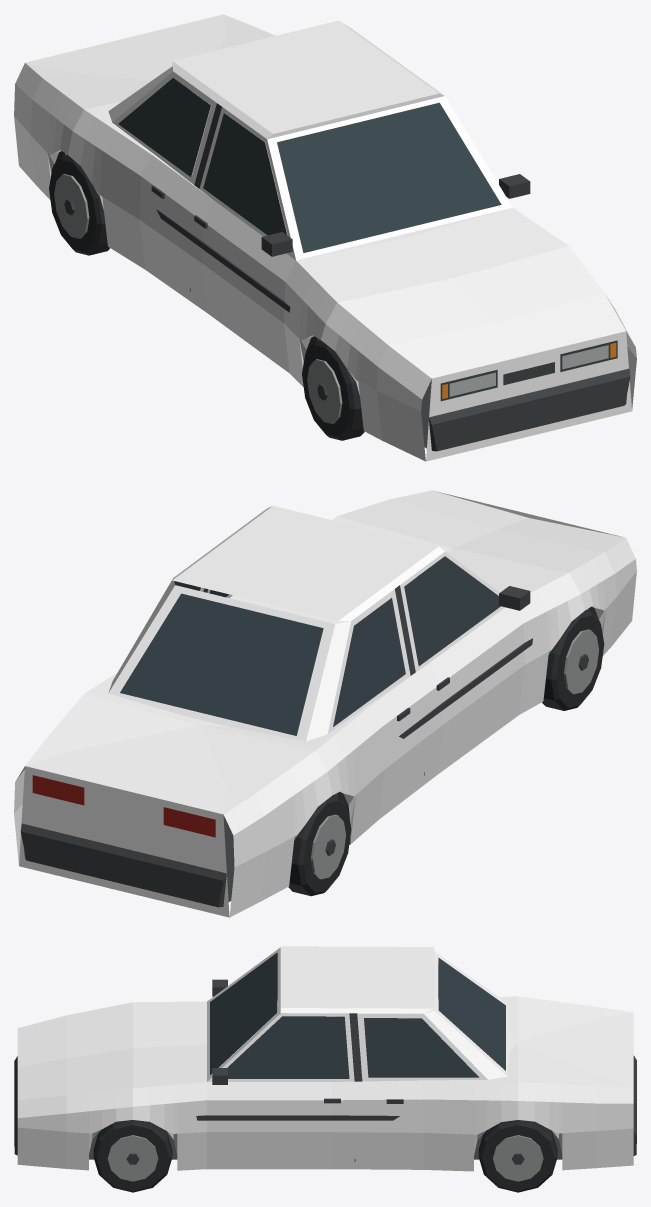
Rendered from hoshino_tenma_gt_99.glb.
3 views of the same model, one above another, from view 1: azimuth 30°, elevation 25°; view 2: azimuth 150°, elevation 25°; view 3: azimuth 270°, elevation 25° (orthographic). The views are drawn at different scales.
Visible parts, largest first — view 1: hoshino_tenma_gt_99; view 2: hoshino_tenma_gt_99; view 3: hoshino_tenma_gt_99.
Part boxes in pixels (bbox=[...]): hoshino_tenma_gt_99: bbox=[14, 14, 636, 461]; hoshino_tenma_gt_99: bbox=[14, 490, 636, 917]; hoshino_tenma_gt_99: bbox=[14, 946, 636, 1192].
Size of the model in its own units: 1.78 by 1.43 by 4.77.
8 materials, 1 textured.
